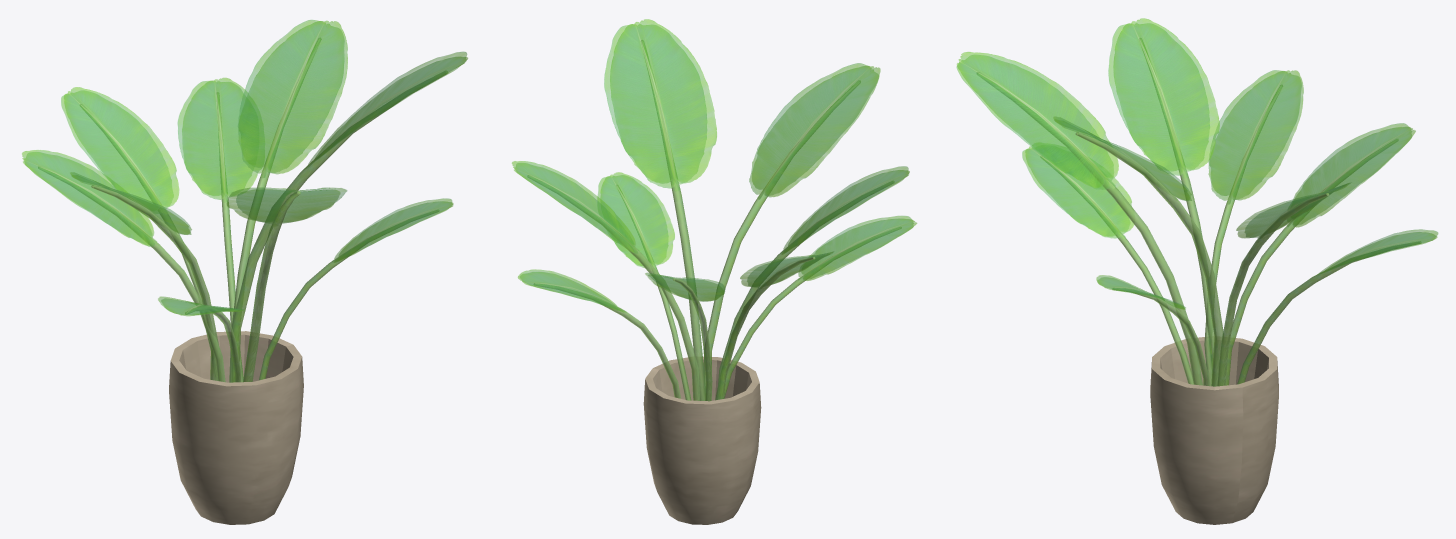
The model's file is pm-banana-plant.glb.
3 views of the same model, side by side, from view 1: azimuth 30°, elevation 25°; view 2: azimuth 150°, elevation 25°; view 3: azimuth 270°, elevation 25° (orthographic). The views are drawn at different scales.
Visible parts, largest first — view 1: Banana_Plant; view 2: Banana_Plant; view 3: Banana_Plant.
Boxes of the visible parts, x1,y1,x2,y2 form: Banana_Plant: (22, 20, 467, 524); Banana_Plant: (512, 19, 917, 524); Banana_Plant: (956, 18, 1438, 524).
Bounding box in the file's own units: 0.8509 × 1.04 × 1.01.
2 materials, 2 textured.
